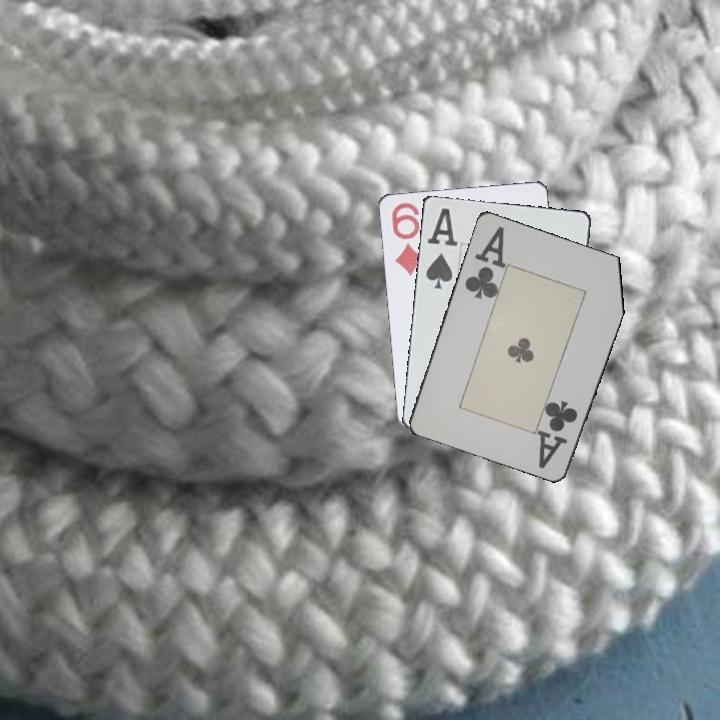6d: (388, 198, 425, 279)
Ac: (461, 222, 507, 302), (535, 396, 581, 471)
As: (422, 204, 460, 292)
